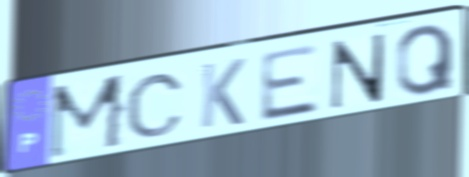C: (123, 72, 186, 141)
E: (258, 41, 322, 125)
K: (197, 55, 248, 131)
M: (45, 70, 130, 164)
N: (327, 30, 389, 113)
Q: (393, 21, 457, 99)
